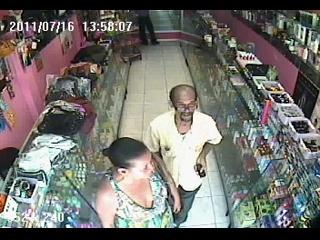Normal: (142, 84, 224, 226), (94, 137, 181, 228), (134, 11, 160, 46)
